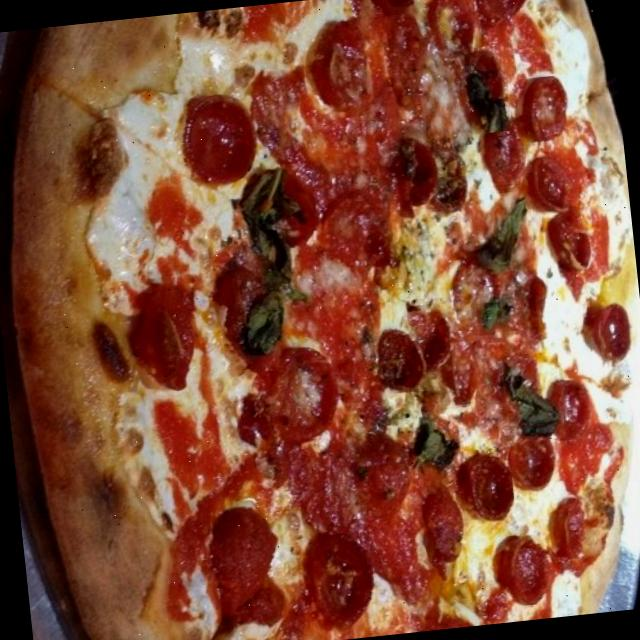basil: (220, 162, 324, 360), (457, 188, 537, 287), (498, 354, 564, 444), (462, 64, 512, 134), (473, 290, 522, 336)
pepperoni: (113, 273, 208, 401), (170, 85, 272, 200), (247, 334, 344, 444), (292, 526, 382, 638), (360, 296, 458, 394), (310, 180, 403, 278), (206, 258, 284, 374), (298, 8, 374, 118), (371, 117, 445, 215), (371, 10, 438, 110), (238, 170, 316, 254), (497, 250, 558, 356), (496, 414, 566, 506), (448, 42, 516, 130), (445, 446, 515, 529), (492, 530, 558, 608), (408, 490, 468, 572), (432, 338, 498, 408), (514, 74, 578, 146), (546, 488, 602, 567), (536, 202, 602, 268), (518, 153, 586, 215), (448, 256, 498, 340), (540, 376, 600, 444), (418, 0, 480, 63), (586, 298, 640, 367), (476, 122, 528, 186)
pizza: (13, 0, 640, 640)
